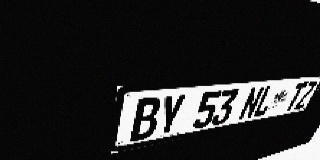3: (210, 89, 240, 126)
5: (192, 90, 222, 130)
B: (130, 96, 162, 142)
L: (252, 85, 279, 118)
N: (237, 86, 265, 121)
T: (283, 82, 308, 112)
Y: (155, 94, 186, 137)
Z: (294, 81, 318, 110)
